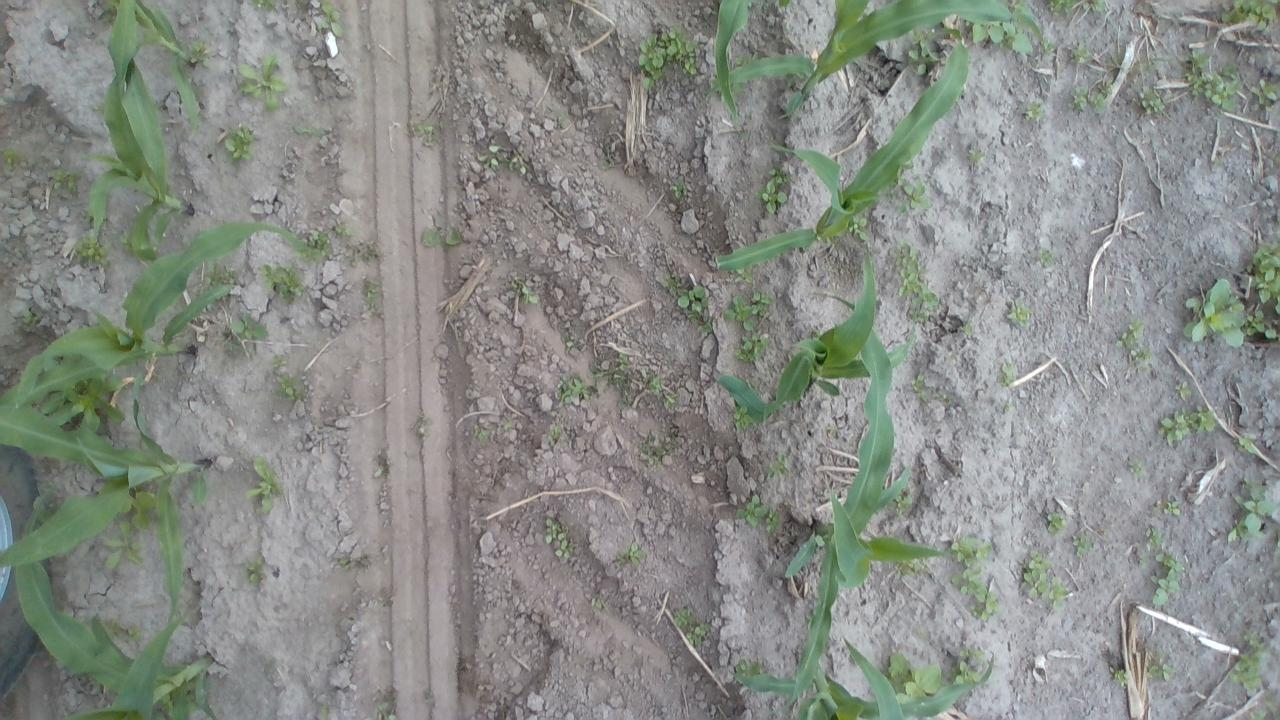Maize: (786, 290, 948, 704), (0, 221, 315, 411), (713, 42, 968, 272), (0, 396, 211, 617), (718, 1, 1050, 114), (713, 254, 917, 420), (13, 562, 216, 720), (76, 0, 196, 266), (744, 643, 995, 720), (98, 0, 205, 132), (713, 0, 748, 117)
Weeds: (1179, 272, 1245, 350), (589, 350, 675, 409), (949, 534, 1005, 620), (890, 244, 939, 321), (46, 384, 128, 428), (1228, 472, 1276, 544), (1246, 242, 1280, 343), (1182, 47, 1236, 110), (1020, 548, 1074, 610), (234, 53, 287, 114), (881, 652, 943, 700), (245, 455, 290, 519), (637, 25, 695, 74), (1154, 406, 1216, 448), (100, 522, 145, 574), (724, 288, 774, 334), (1150, 550, 1186, 612), (969, 22, 1035, 54), (476, 141, 531, 179), (262, 262, 306, 304), (1221, 0, 1278, 31), (1232, 652, 1271, 696), (541, 519, 580, 563), (420, 210, 464, 249), (224, 312, 270, 348), (1117, 320, 1154, 364), (70, 234, 110, 274), (909, 29, 940, 77), (217, 123, 253, 161), (732, 332, 774, 364), (1072, 81, 1112, 114), (760, 166, 786, 216), (50, 166, 84, 204), (509, 269, 542, 307), (107, 614, 148, 644), (555, 375, 593, 406), (1148, 648, 1182, 682), (272, 370, 308, 402), (736, 496, 772, 526), (316, 2, 346, 38), (901, 180, 930, 215), (1250, 77, 1280, 108), (613, 545, 650, 570), (242, 556, 270, 589), (0, 143, 33, 171), (675, 284, 707, 312), (358, 238, 388, 266), (1140, 90, 1170, 117), (308, 230, 336, 257), (547, 107, 576, 133), (638, 440, 668, 464), (412, 122, 438, 149), (1068, 532, 1094, 559), (357, 276, 382, 304), (668, 175, 696, 200), (206, 264, 242, 283), (686, 620, 711, 646), (736, 658, 769, 677), (188, 38, 213, 63), (909, 370, 930, 399), (848, 214, 872, 239), (290, 125, 331, 139), (1126, 450, 1148, 476), (954, 662, 982, 682), (894, 489, 913, 518), (1044, 510, 1064, 537), (663, 273, 686, 296), (1008, 304, 1032, 326), (1063, 41, 1089, 60), (1236, 432, 1263, 450), (1107, 664, 1129, 686), (474, 424, 498, 444), (548, 421, 568, 444), (769, 454, 788, 478), (332, 220, 354, 240), (1022, 100, 1044, 120), (761, 510, 780, 533), (17, 309, 38, 329), (896, 558, 922, 574), (734, 403, 750, 429), (1244, 633, 1266, 651), (674, 604, 692, 626), (968, 139, 982, 167), (957, 647, 989, 659), (346, 238, 358, 270), (1038, 246, 1058, 265), (1174, 380, 1195, 398), (1000, 360, 1015, 385), (1041, 34, 1057, 57), (1080, 0, 1106, 13), (734, 268, 754, 284), (1144, 527, 1162, 544), (562, 329, 576, 350), (1132, 546, 1148, 564), (1160, 499, 1178, 515), (1046, 0, 1072, 11), (248, 0, 280, 8), (372, 711, 398, 720), (698, 318, 712, 334), (270, 351, 286, 365), (962, 320, 972, 333), (778, 0, 791, 7), (1003, 403, 1012, 411)
